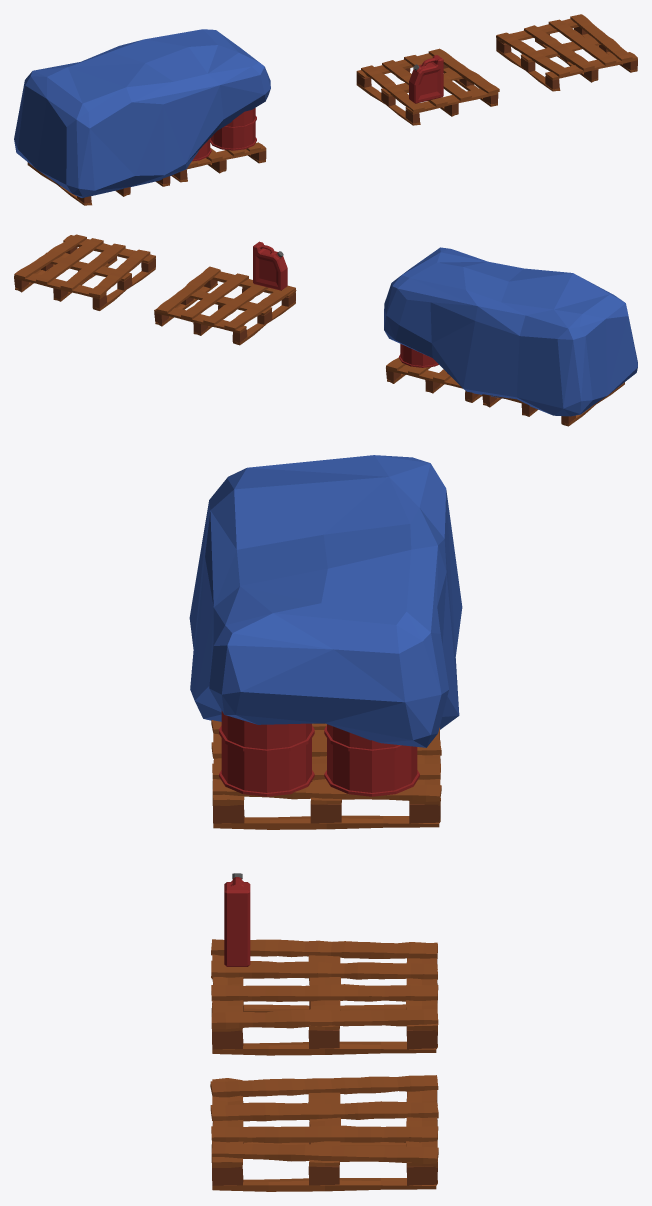
Rendered from Паливо.fbx.
3 renders of one model, top to bottom at view 1: azimuth 30°, elevation 25°; view 2: azimuth 150°, elevation 25°; view 3: azimuth 270°, elevation 25°, orthographic. The views are drawn at different scales.
Visible parts, largest first — view 1: Куб.024, Куб.016, Куб.021, Цилиндр.004, Куб.013, Куб.022, Куб.023; view 2: Куб.024, Куб.016, Куб.021, Куб.013, Куб.022, Куб.023, Цилиндр.004; view 3: Куб.024, Куб.016, Куб.021, Цилиндр.004, Куб.022, Куб.013.
Boxes of the visible parts, bbox=[...] form: Куб.024: bbox=[14, 29, 270, 198]; Куб.016: bbox=[496, 14, 637, 91]; Куб.021: bbox=[356, 48, 499, 125]; Цилиндр.004: bbox=[192, 108, 256, 161]; Куб.013: bbox=[409, 55, 443, 103]; Куб.022: bbox=[171, 142, 266, 182]; Куб.023: bbox=[27, 162, 170, 205]; Куб.024: bbox=[384, 247, 637, 416]; Куб.016: bbox=[14, 234, 155, 310]; Куб.021: bbox=[154, 266, 296, 345]; Куб.013: bbox=[253, 241, 287, 290]; Куб.022: bbox=[386, 357, 482, 402]; Куб.023: bbox=[482, 382, 624, 426]; Цилиндр.004: bbox=[399, 344, 448, 374]; Куб.024: bbox=[189, 455, 462, 747]; Куб.016: bbox=[210, 1075, 438, 1191]; Куб.021: bbox=[211, 939, 438, 1055]; Цилиндр.004: bbox=[219, 710, 419, 796]; Куб.022: bbox=[211, 720, 441, 829]; Куб.013: bbox=[224, 873, 250, 966].
Size of the model in its own units: 7217 by 1290 by 1494.
